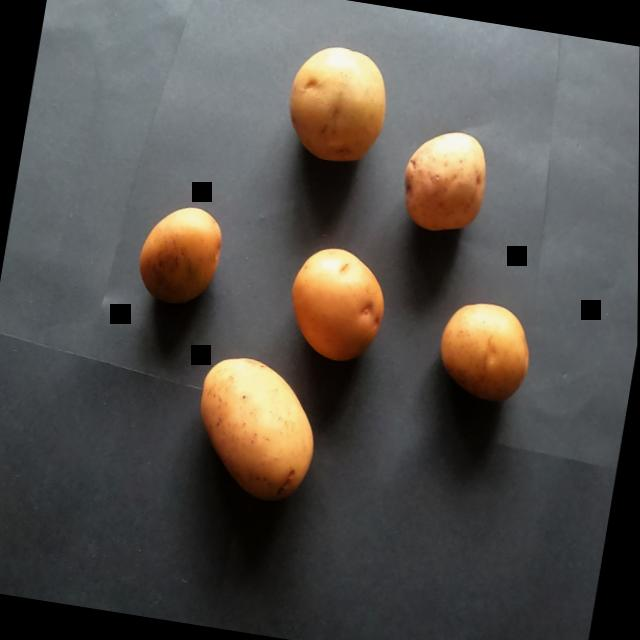Potato: (171, 343, 333, 522), (263, 26, 399, 187), (417, 277, 555, 425), (381, 103, 503, 257), (275, 230, 401, 376), (116, 190, 242, 331)
